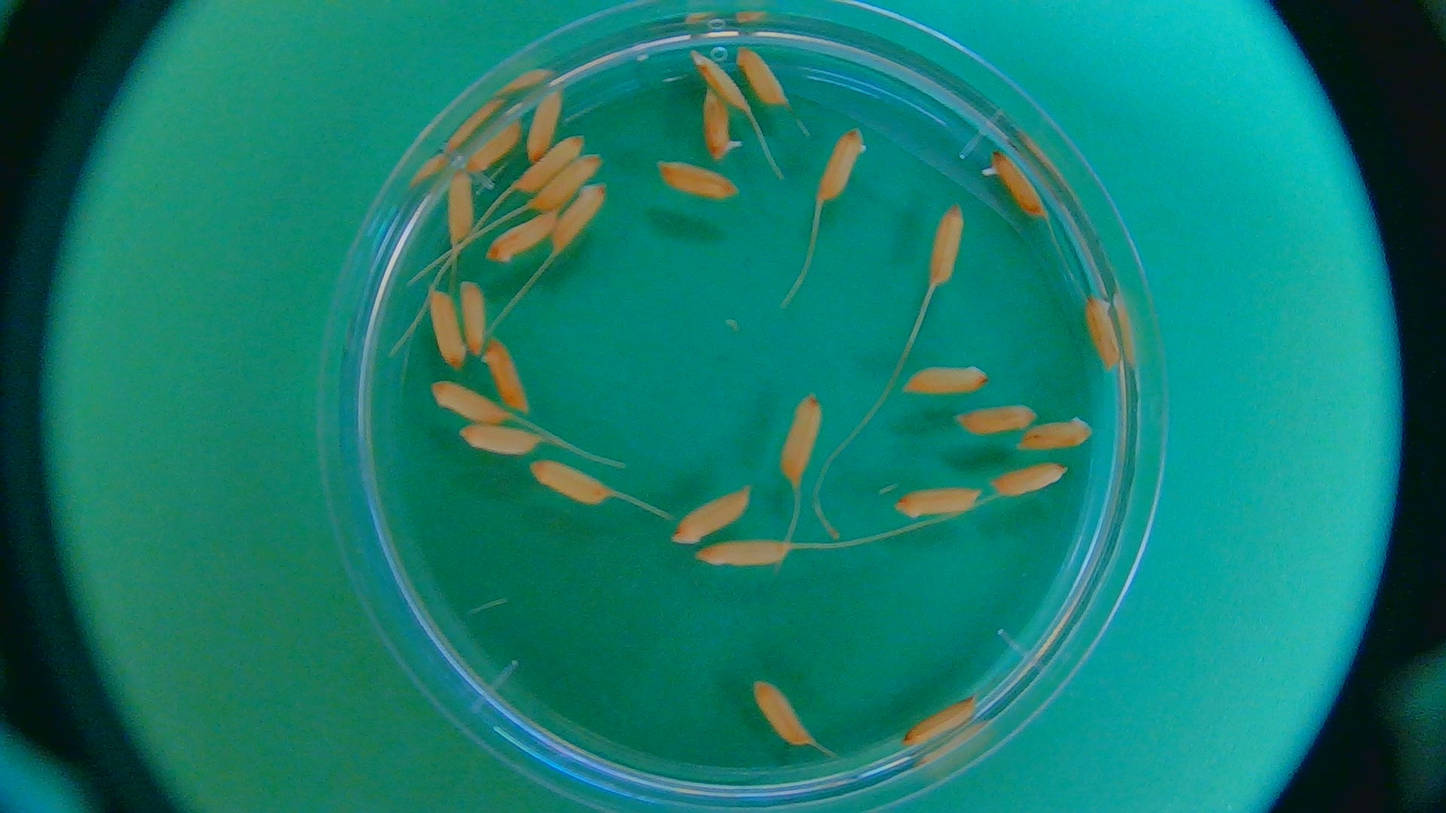no: (419, 373, 517, 434), (519, 148, 606, 212), (895, 691, 984, 751), (809, 122, 874, 204), (773, 394, 825, 494), (751, 681, 829, 747), (685, 44, 755, 112), (987, 150, 1055, 220), (519, 455, 610, 507), (667, 486, 752, 541), (548, 181, 601, 268), (508, 131, 583, 192), (1075, 295, 1131, 373), (474, 338, 532, 412), (650, 155, 740, 202), (453, 418, 548, 462), (923, 199, 967, 288), (486, 210, 555, 266), (893, 478, 978, 523), (444, 167, 488, 251), (445, 166, 487, 252), (692, 537, 795, 571), (734, 44, 789, 107), (898, 361, 989, 397), (522, 88, 562, 169), (460, 117, 520, 168), (428, 290, 463, 376), (1015, 415, 1096, 452), (957, 401, 1039, 435), (456, 276, 490, 356), (991, 463, 1072, 493)
yes: (701, 82, 741, 160)
